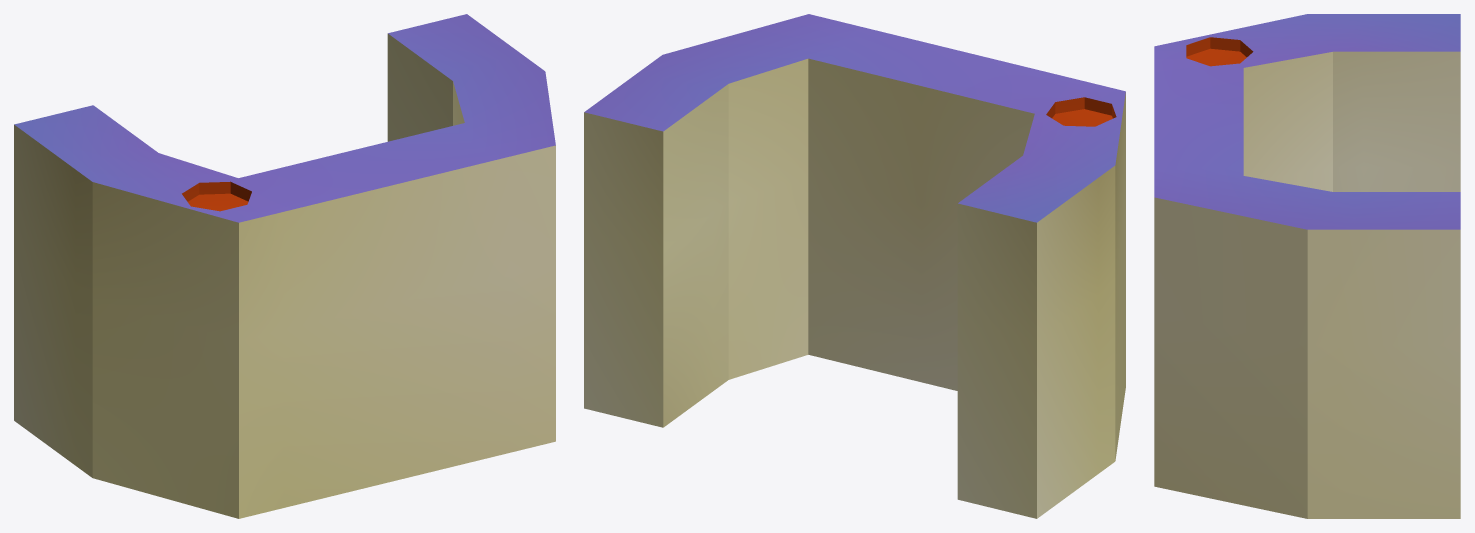
The model's file is resodey table.fbx.
3 renders of one model, left to right at view 1: azimuth 30°, elevation 25°; view 2: azimuth 150°, elevation 25°; view 3: azimuth 270°, elevation 25°, orthographic. The views are drawn at different scales.
Visible parts, largest first — view 1: cuboid_selection; view 2: cuboid_selection; view 3: cuboid_selection.
Part boxes in pixels (x1,y1,x2,y2): cuboid_selection: (14,14,555,518); cuboid_selection: (584,14,1125,518); cuboid_selection: (1154,14,1460,518).
Bounding box in the file's own units: 200 × 125 × 120.
3 materials, 3 textured.
